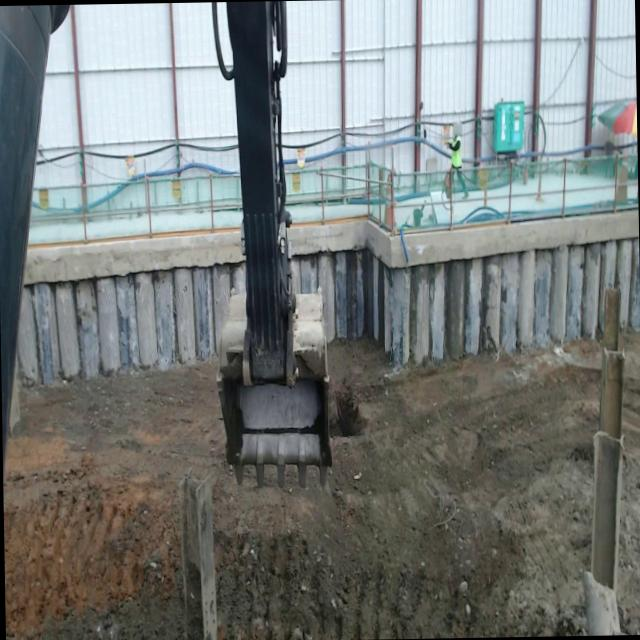white-sand: (3, 340, 600, 640), (617, 335, 640, 635)
